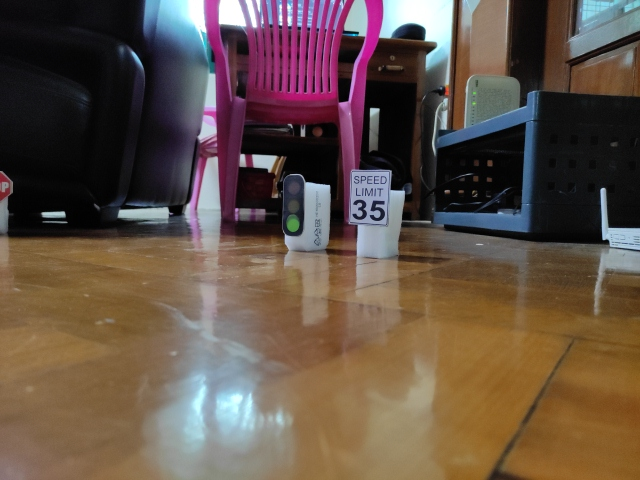Green Traffic Light: (282, 174, 306, 235)
Speed Limit 35: (349, 168, 392, 226)
